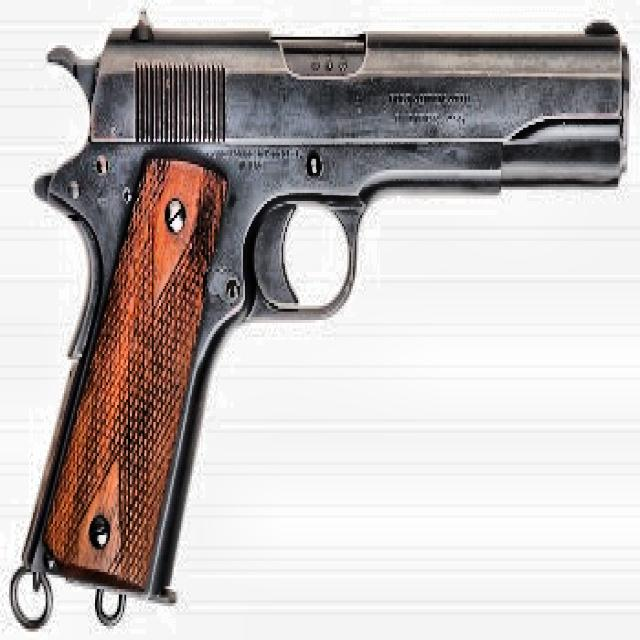Colt m1911: (7, 3, 631, 629)
